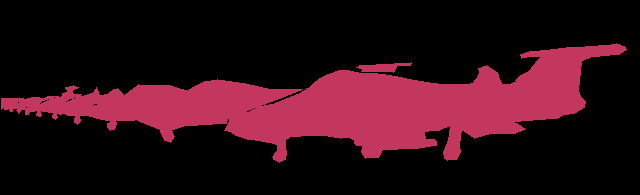Airplane: (224, 43, 627, 162), (135, 62, 411, 142), (87, 84, 190, 131), (58, 87, 129, 124), (38, 85, 81, 119), (26, 96, 59, 117), (15, 97, 39, 115), (7, 98, 24, 112), (1, 98, 20, 110)
